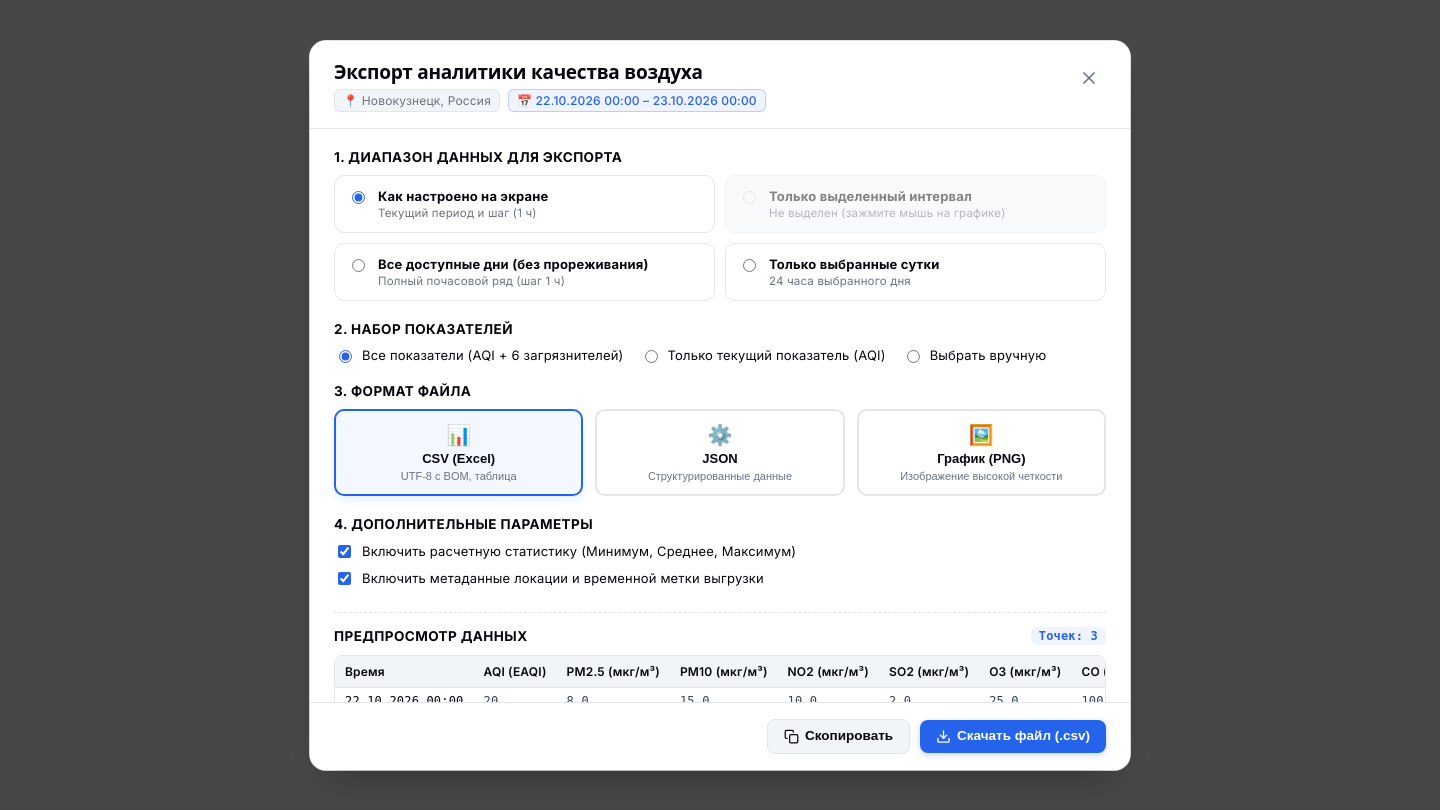
Test case: AnalyticsExportModal component › renders all selected metric charts in PNG preview for all metrics and custom selection
This screenshot has width=1440, height=810.
Click the button with test id "format-btn-png" at (981, 452), box [857,409,1106,496]
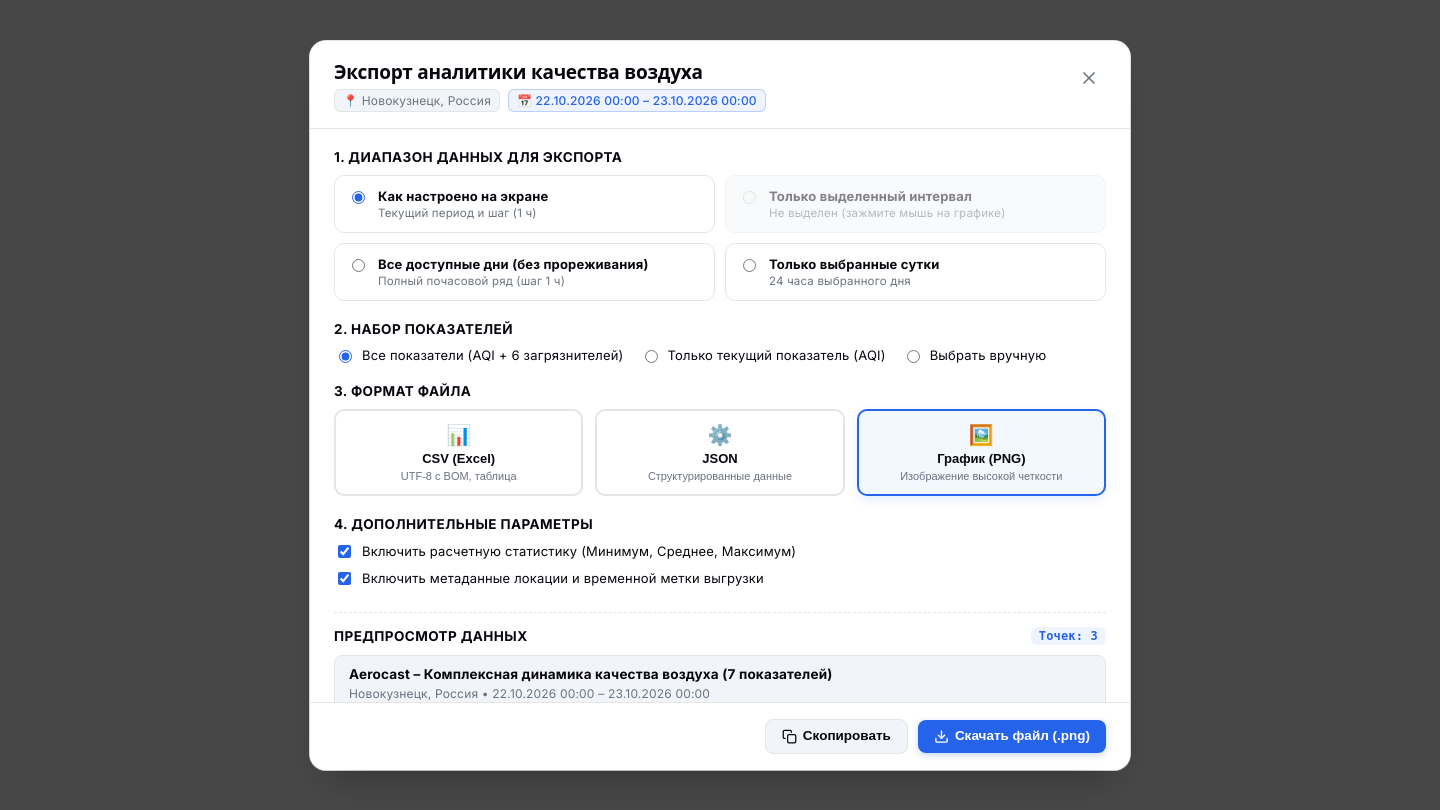
Click the radio button with test id "metric-mode-custom" at (913, 356), box [907,350,920,363]
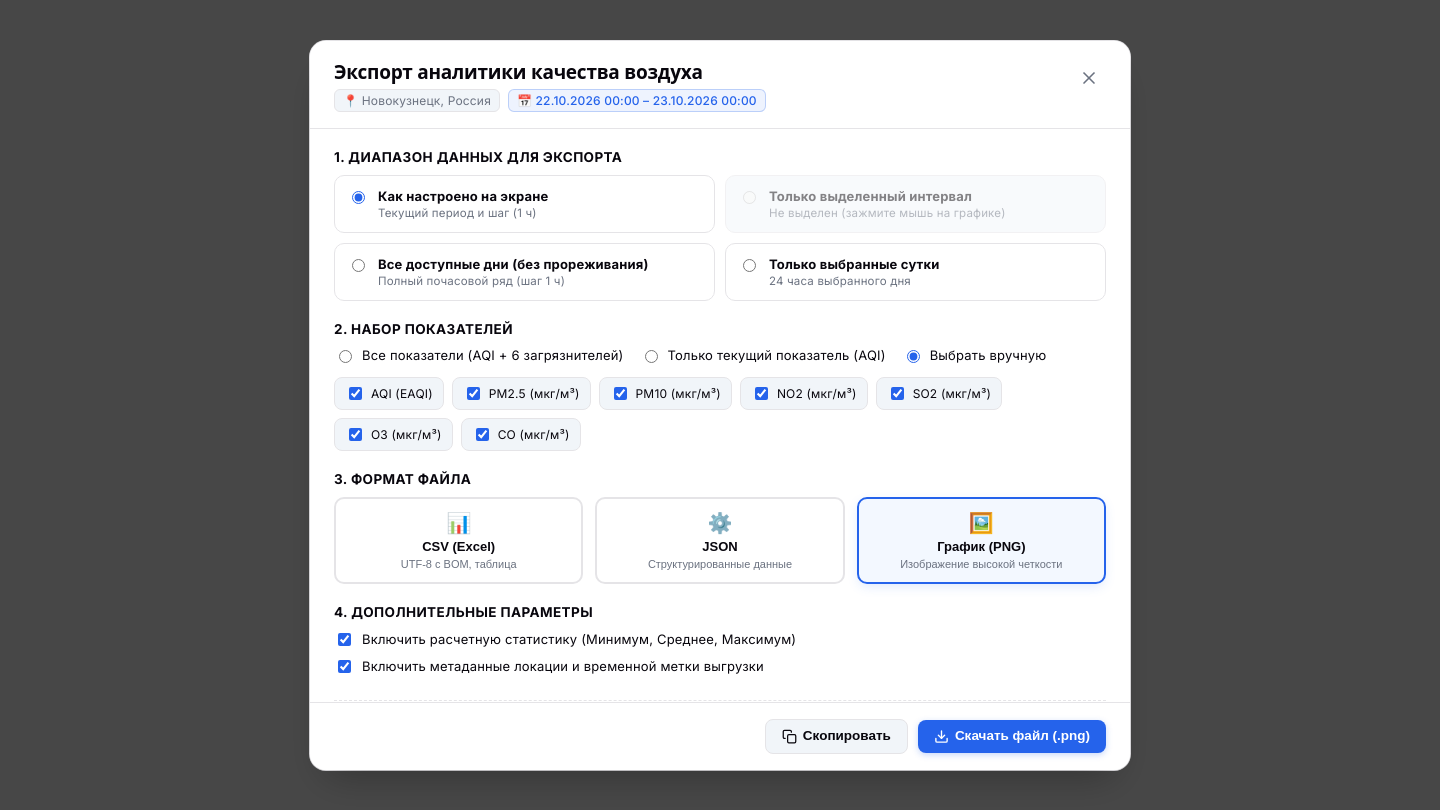
Click the checkbox with test id "checkbox-metric-aqi" at (356, 393), box [349,387,362,400]
(page scrolled)
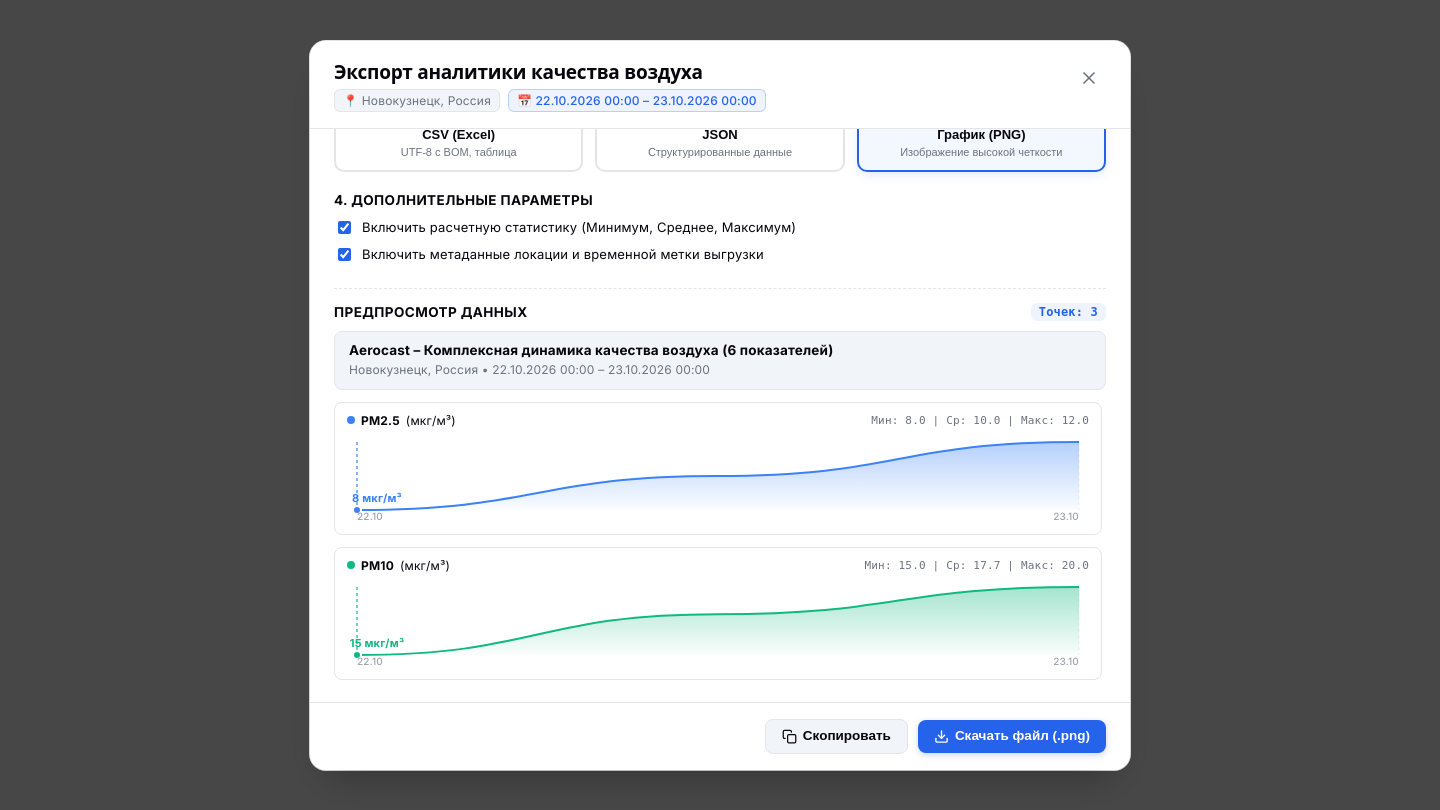
Check: the element with test id "export-png-chart-pm2_5" is shown, box [334,402,1102,535]
